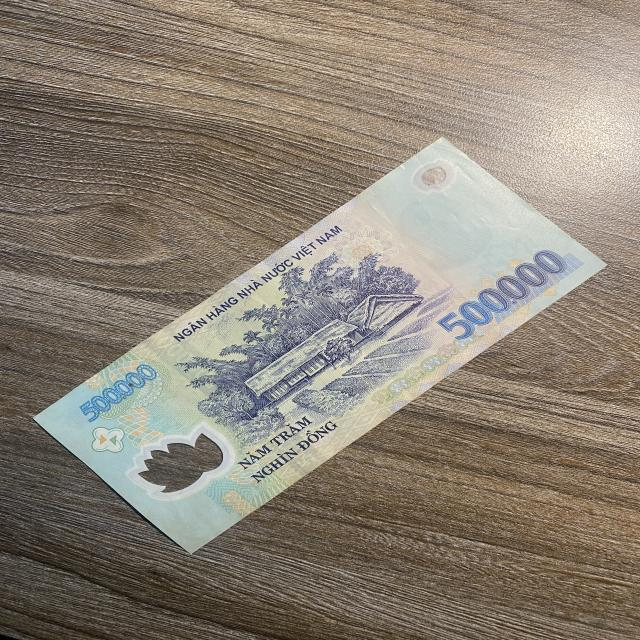500 000 VND: (31, 135, 609, 556)
